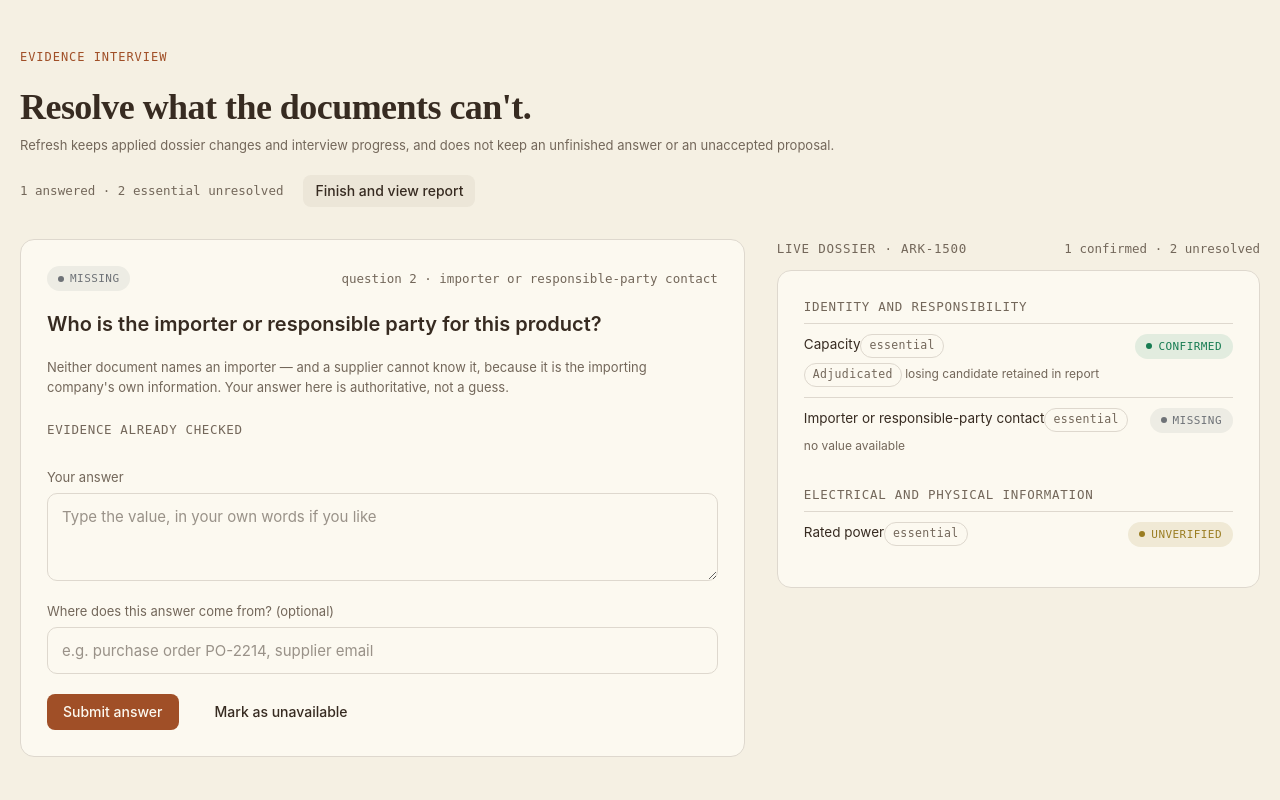
InterviewWorkspace interpretation › shows the rephrase sentence for rephrase interpret failures
The width and height of the screenshot is (1280, 800).
In the text box labelled "Your answer": (382,537) x1=47 y1=493 x2=718 y2=581, type "Acme Imports GmbH — rated power should be 2200 W"
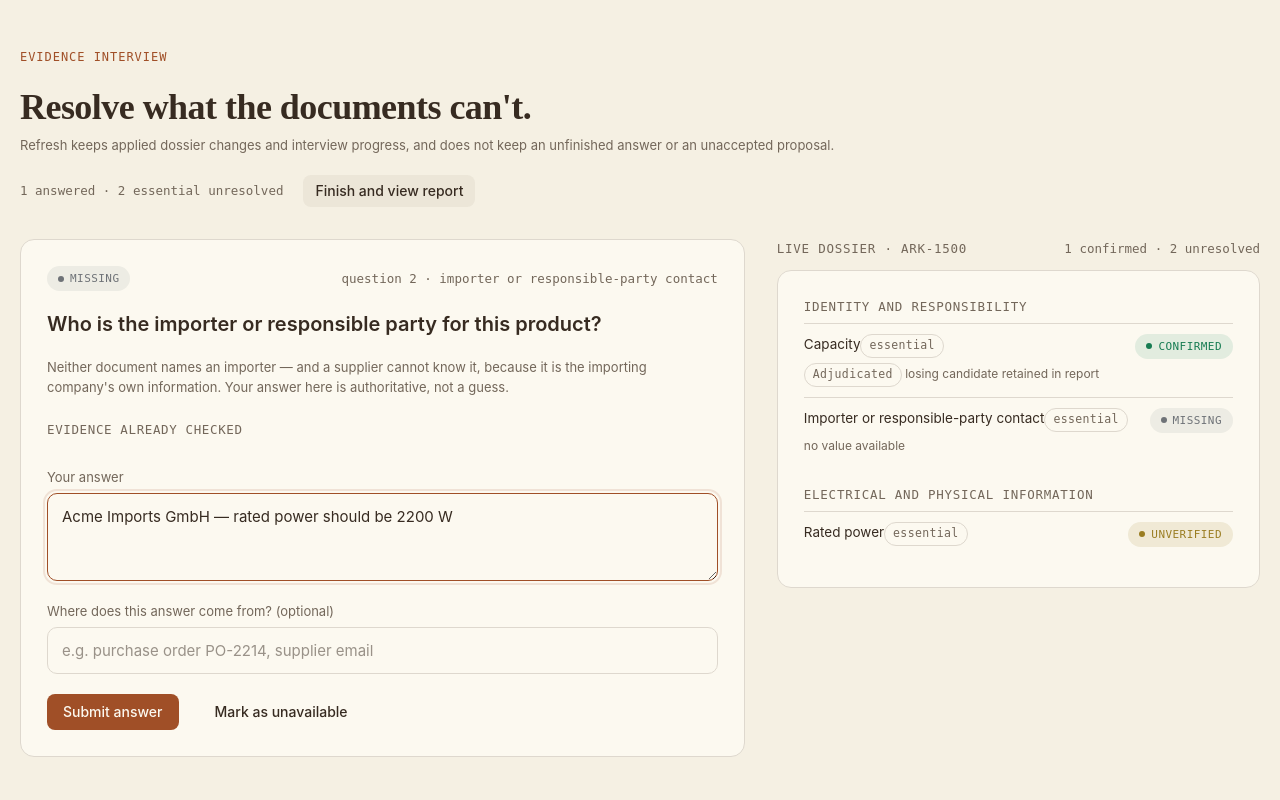
Click the button "Submit answer": (113,712) x1=47 y1=694 x2=178 y2=730
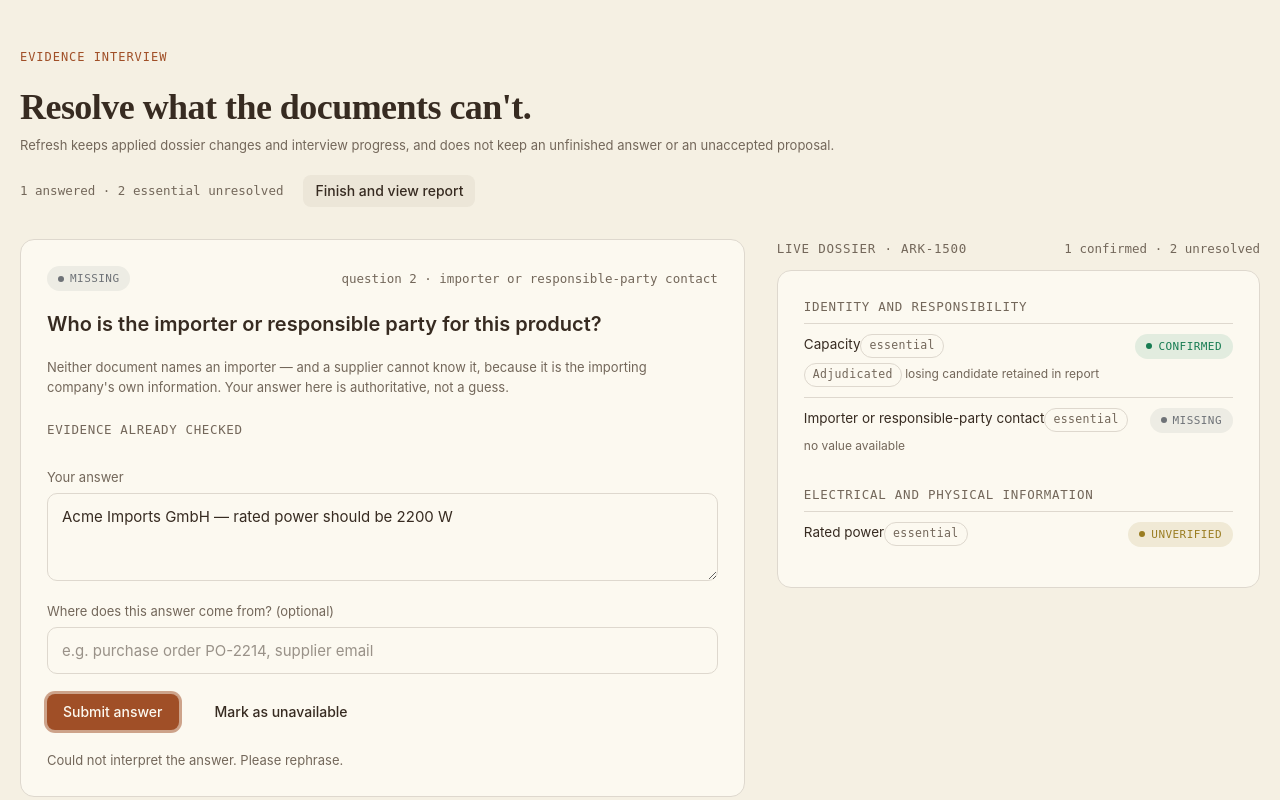
Result: the text "Could not interpret the answer. Please rephrase." is shown at x1=47 y1=752 x2=343 y2=768
